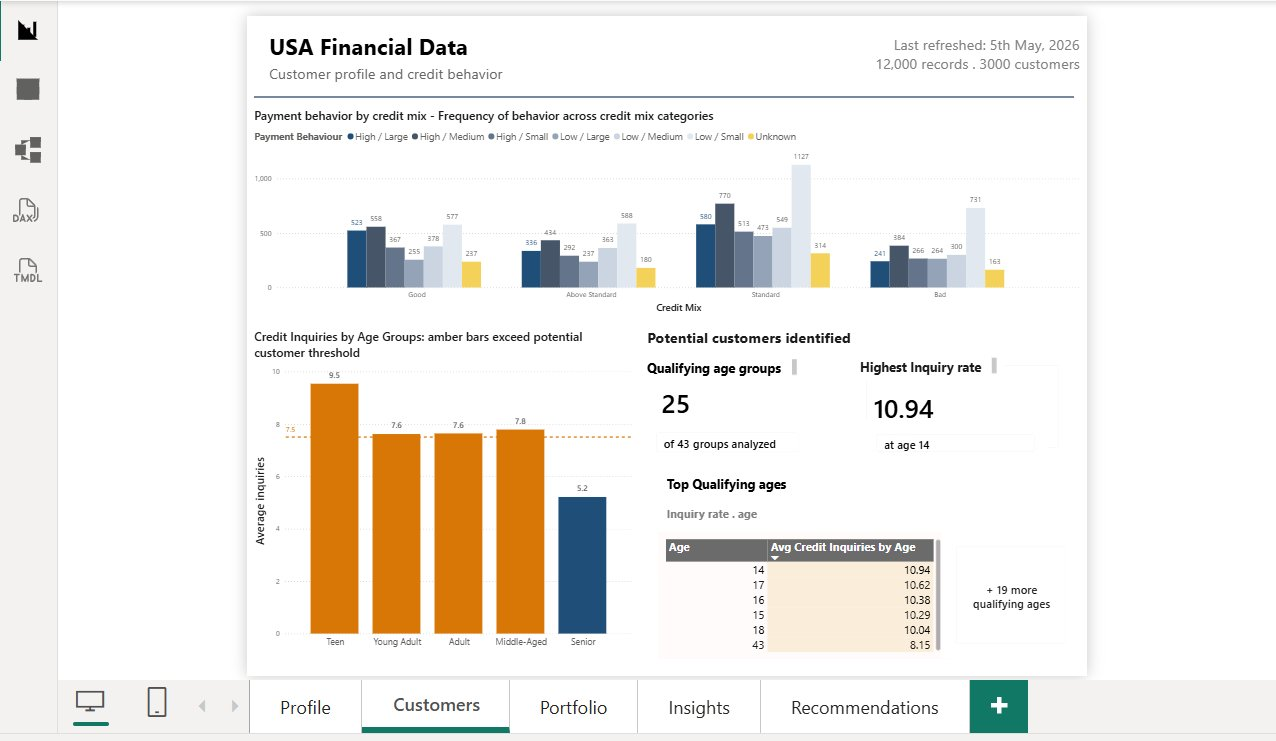

The page's visual inventory and layout, read from the dashboard file:
{"tool":"powerbi","page":{"name":"Customers","canvas":[1400,1100],"ordinal":1},"visuals":[{"type":"textbox","box":[25,12.5,597.5,80],"z":0,"group":"g9"},{"type":"clusteredColumnChart","title":"Payment behavior by credit mix - Frequency of behavior across credit mix categories","fields":{"Category":["combined_df.Credit_Mix"],"Y":["CountNonNull(combined_df.Payment_Behaviour)"],"Series":["combined_df.Payment_Behaviour"]},"box":[0,140,1400,367.5],"z":0},{"type":"group","id":"g1","title":"Group 7","box":[655,549.3,735,520.7],"z":0,"group":"g8"},{"type":"group","id":"g2","title":"Group 1","box":[655,549.3,312.2,201.4],"z":0,"group":"g1"},{"type":"cardVisual","fields":{"Data":["Table.Qualifying Ages Count"]},"box":[655,549.3,312.2,186.7],"z":0,"group":"g2"},{"type":"group","id":"g3","title":"Group 2","box":[1008.7,556.7,370.3,186.7],"z":0,"group":"g4"},{"type":"cardVisual","fields":{"Data":["Table.Highest Inquiry Rate"]},"box":[1008.7,556.7,370.3,186.7],"z":0,"group":"g3"},{"type":"textbox","box":[689.2,750.7,353.7,66.3],"z":0,"group":"g6"},{"type":"textbox","box":[25,67.5,447.5,57.5],"z":1000,"group":"g9"},{"type":"clusteredColumnChart","title":"Credit Inquiries by Age Groups: amber bars exceed potential customer threshold","fields":{"Category":["combined_df.Age Groups"],"Y":["Table.AverageCreditInqueries"]},"box":[0,507.5,655,562.5],"z":1000},{"type":"textbox","box":[655,507.5,420,61.4],"z":1000,"group":"g8"},{"type":"group","id":"g4","title":"Group 3","box":[1008.7,556.7,370.3,194.1],"z":1000,"group":"g1"},{"type":"textbox","box":[1011.5,557.9,251.4,51.6],"z":1000,"group":"g3"},{"type":"textbox","box":[655,559.1,273.6,51.6],"z":1000,"group":"g2"},{"type":"cardVisual","fields":{"Data":["Table.Age At Highest Inquiry"]},"box":[1025.3,672.1,312.2,78.6],"z":1000,"group":"g4"},{"type":"textbox","box":[689.2,802.3,353.7,66.3],"z":1000,"group":"g6"},{"type":"textbox","box":[1017.5,0,382.5,122.5],"z":2000,"group":"g9"},{"type":"cardVisual","fields":{"Data":["Table.Total Ages Analyzed"]},"box":[657.8,669.7,287.4,81.1],"z":2000,"group":"g2"},{"type":"group","id":"g5","title":"Group 5","box":[685.5,750.7,483.6,319.3],"z":2000,"group":"g1"},{"type":"shape","box":[0,117.5,1390,35],"z":3000,"group":"g9"},{"type":"cardVisual","fields":{"Data":["Table.More Qualifying"]},"box":[1157.9,859.7,232.1,210.2],"z":3000,"group":"g1"},{"type":"group","id":"g6","title":"Group 4","box":[689.2,750.7,353.7,117.9],"z":4000,"group":"g7"},{"type":"tableEx","fields":{"Values":["combined_df.Age","Table.Avg Credit Inquiries by Age"]},"box":[685.5,858.8,483.6,211.2],"z":5000,"group":"g7"},{"type":"group","id":"g7","title":"Group 6","box":[685.5,750.7,483.6,319.3],"z":5002,"group":"g5"},{"type":"group","id":"g8","title":"Group 8","box":[655,507.5,735,562.5],"z":5005},{"type":"group","id":"g9","title":"Group 3","box":[0,0,1400,152.5],"z":15001}]}

Visuals, with their boxes on the page's 1400x1100 design canvas (x1, y1, x2, y2). These are canvas units, not pixel positions in the 1276x741 screenshot, which may show the page scaled, cropped or inside an application window:
textbox: 25 12 622 92
"Payment behavior by credit mix - Frequency of behavior across credit mix categories" clusteredColumnChart: 0 140 1400 508
"Group 7" group: 655 549 1390 1070
"Group 1" group: 655 549 967 751
cardVisual - Table.Qualifying Ages Count: 655 549 967 736
"Group 2" group: 1009 557 1379 743
cardVisual - Table.Highest Inquiry Rate: 1009 557 1379 743
textbox: 689 751 1043 817
textbox: 25 68 472 125
"Credit Inquiries by Age Groups: amber bars exceed potential customer threshold" clusteredColumnChart: 0 508 655 1070
textbox: 655 508 1075 569
"Group 3" group: 1009 557 1379 751
textbox: 1012 558 1263 610
textbox: 655 559 929 611
cardVisual - Table.Age At Highest Inquiry: 1025 672 1338 751
textbox: 689 802 1043 869
textbox: 1018 0 1400 122
cardVisual - Table.Total Ages Analyzed: 658 670 945 751
"Group 5" group: 686 751 1169 1070
shape: 0 118 1390 152
cardVisual - Table.More Qualifying: 1158 860 1390 1070
"Group 4" group: 689 751 1043 869
tableEx - combined_df.Age x Table.Avg Credit Inquiries by Age: 686 859 1169 1070
"Group 6" group: 686 751 1169 1070
"Group 8" group: 655 508 1390 1070
"Group 3" group: 0 0 1400 152
